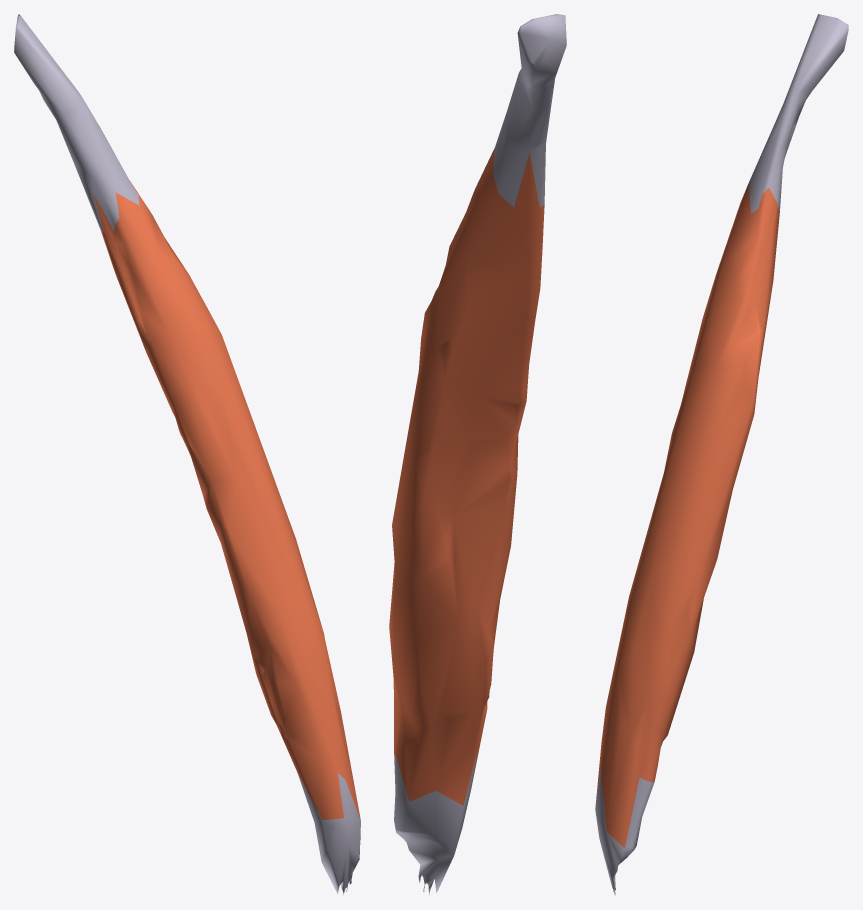
File: Flexor_digiti_minimi_hand_right.glb
3 views of the same model, side by side, from view 1: azimuth 30°, elevation 25°; view 2: azimuth 150°, elevation 25°; view 3: azimuth 270°, elevation 25° (orthographic). The views are drawn at different scales.
Visible parts, largest first — view 1: Flexor_digiti_minimi_of_hand.r_Generated_Mesh_From_X3D.584; view 2: Flexor_digiti_minimi_of_hand.r_Generated_Mesh_From_X3D.584; view 3: Flexor_digiti_minimi_of_hand.r_Generated_Mesh_From_X3D.584.
Boxes of the visible parts, bbox=[...] form: Flexor_digiti_minimi_of_hand.r_Generated_Mesh_From_X3D.584: bbox=[14, 14, 360, 894]; Flexor_digiti_minimi_of_hand.r_Generated_Mesh_From_X3D.584: bbox=[389, 14, 566, 895]; Flexor_digiti_minimi_of_hand.r_Generated_Mesh_From_X3D.584: bbox=[595, 14, 848, 895].
Size of the model in its own units: 0.0185 by 0.0621 by 0.0182.
